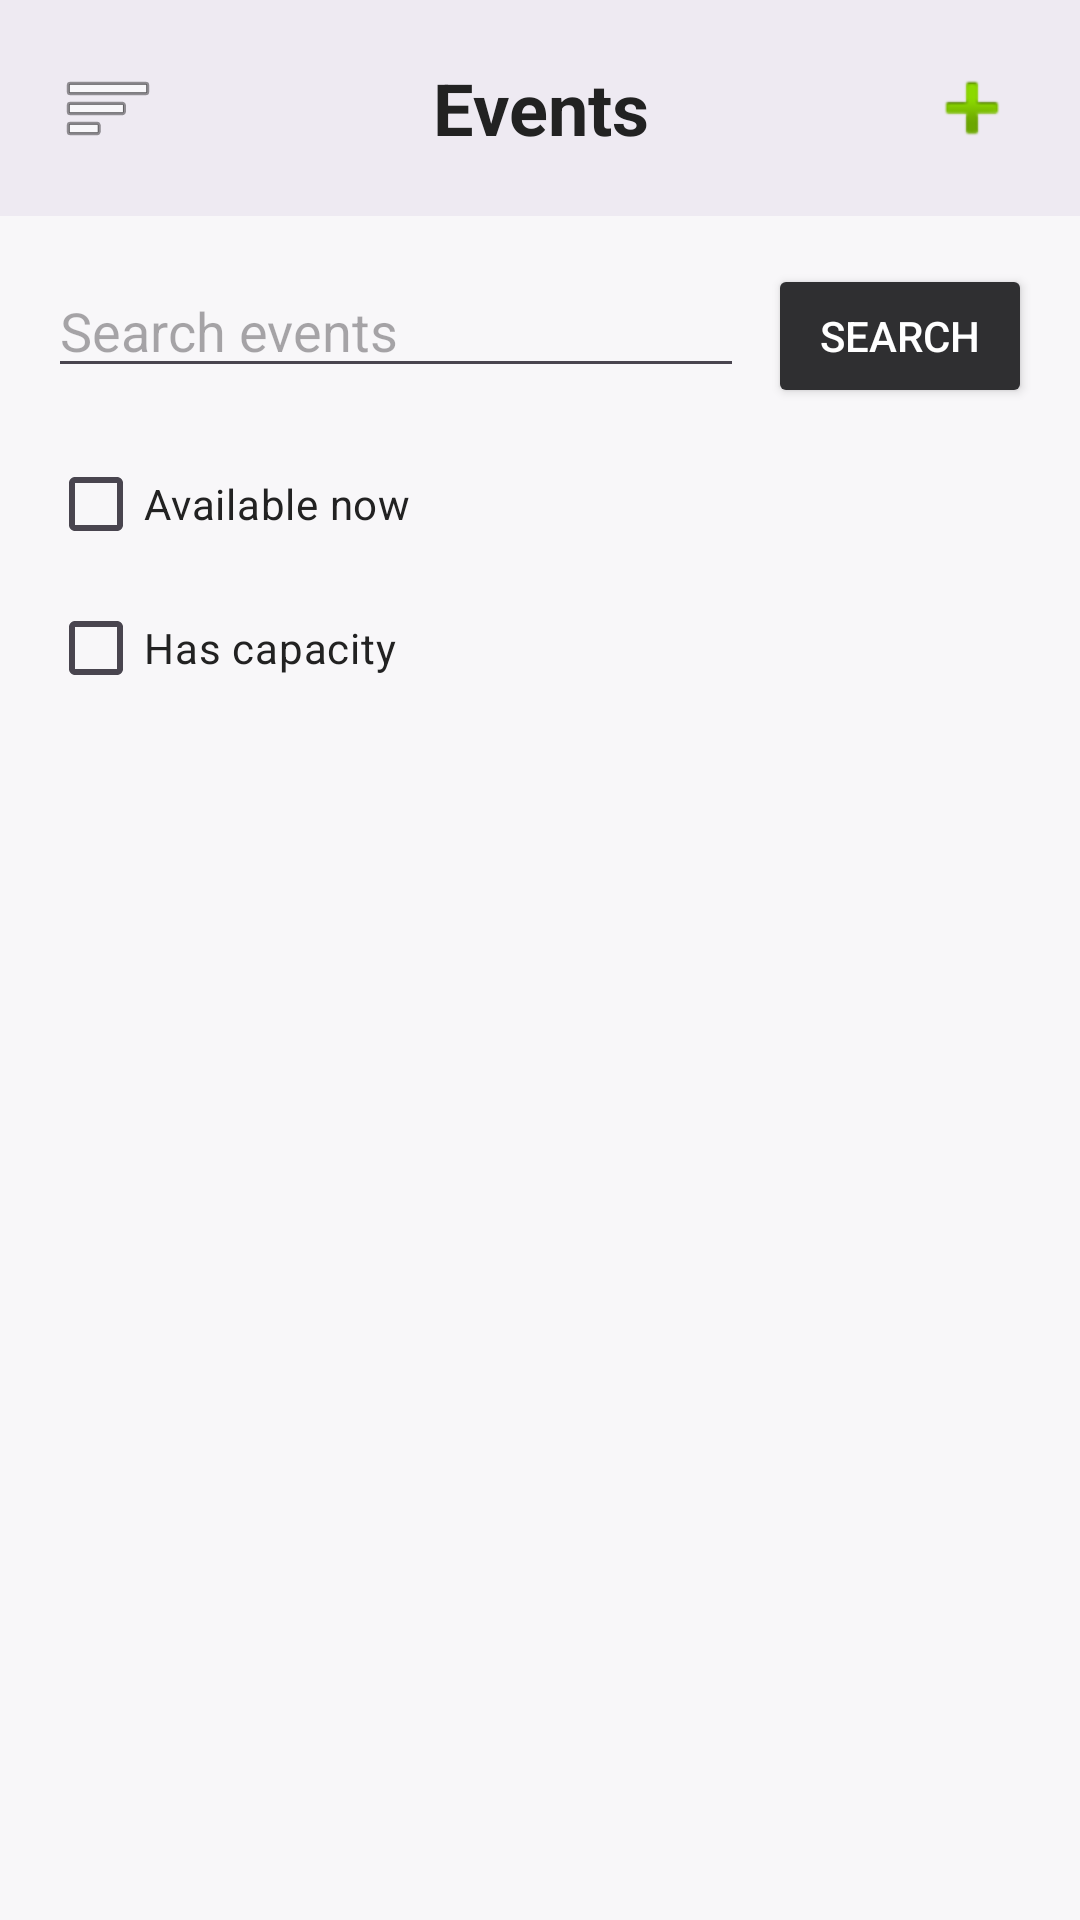

Icon click points for this 1080×1920 phone screenshot, format (x,y):
Create Event: (972,108)
Menu: (108,108)
